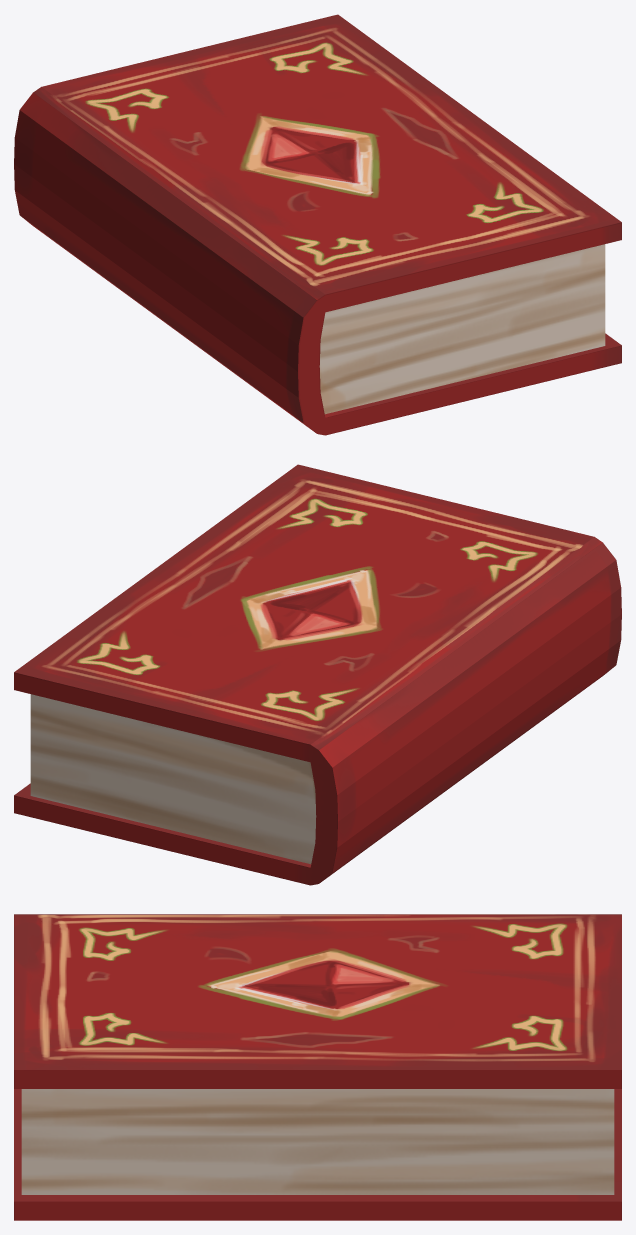
File: Book.fbx
3 views of the same model, one above another, from view 1: azimuth 30°, elevation 25°; view 2: azimuth 150°, elevation 25°; view 3: azimuth 270°, elevation 25° (orthographic). The views are drawn at different scales.
Parts seen in each view (by area): view 1: Book, Book_Inside; view 2: Book, Book_Inside; view 3: Book, Book_Inside.
Boxes of the visible parts, <box> form: Book: <box>14,14,621,435</box>; Book_Inside: <box>319,244,605,414</box>; Book: <box>14,464,621,885</box>; Book_Inside: <box>30,694,316,864</box>; Book: <box>14,914,621,1220</box>; Book_Inside: <box>21,1089,614,1194</box>.
Bounding box in the file's own units: 425 × 176 × 645.
Materials: 2 (2 with a texture image).
